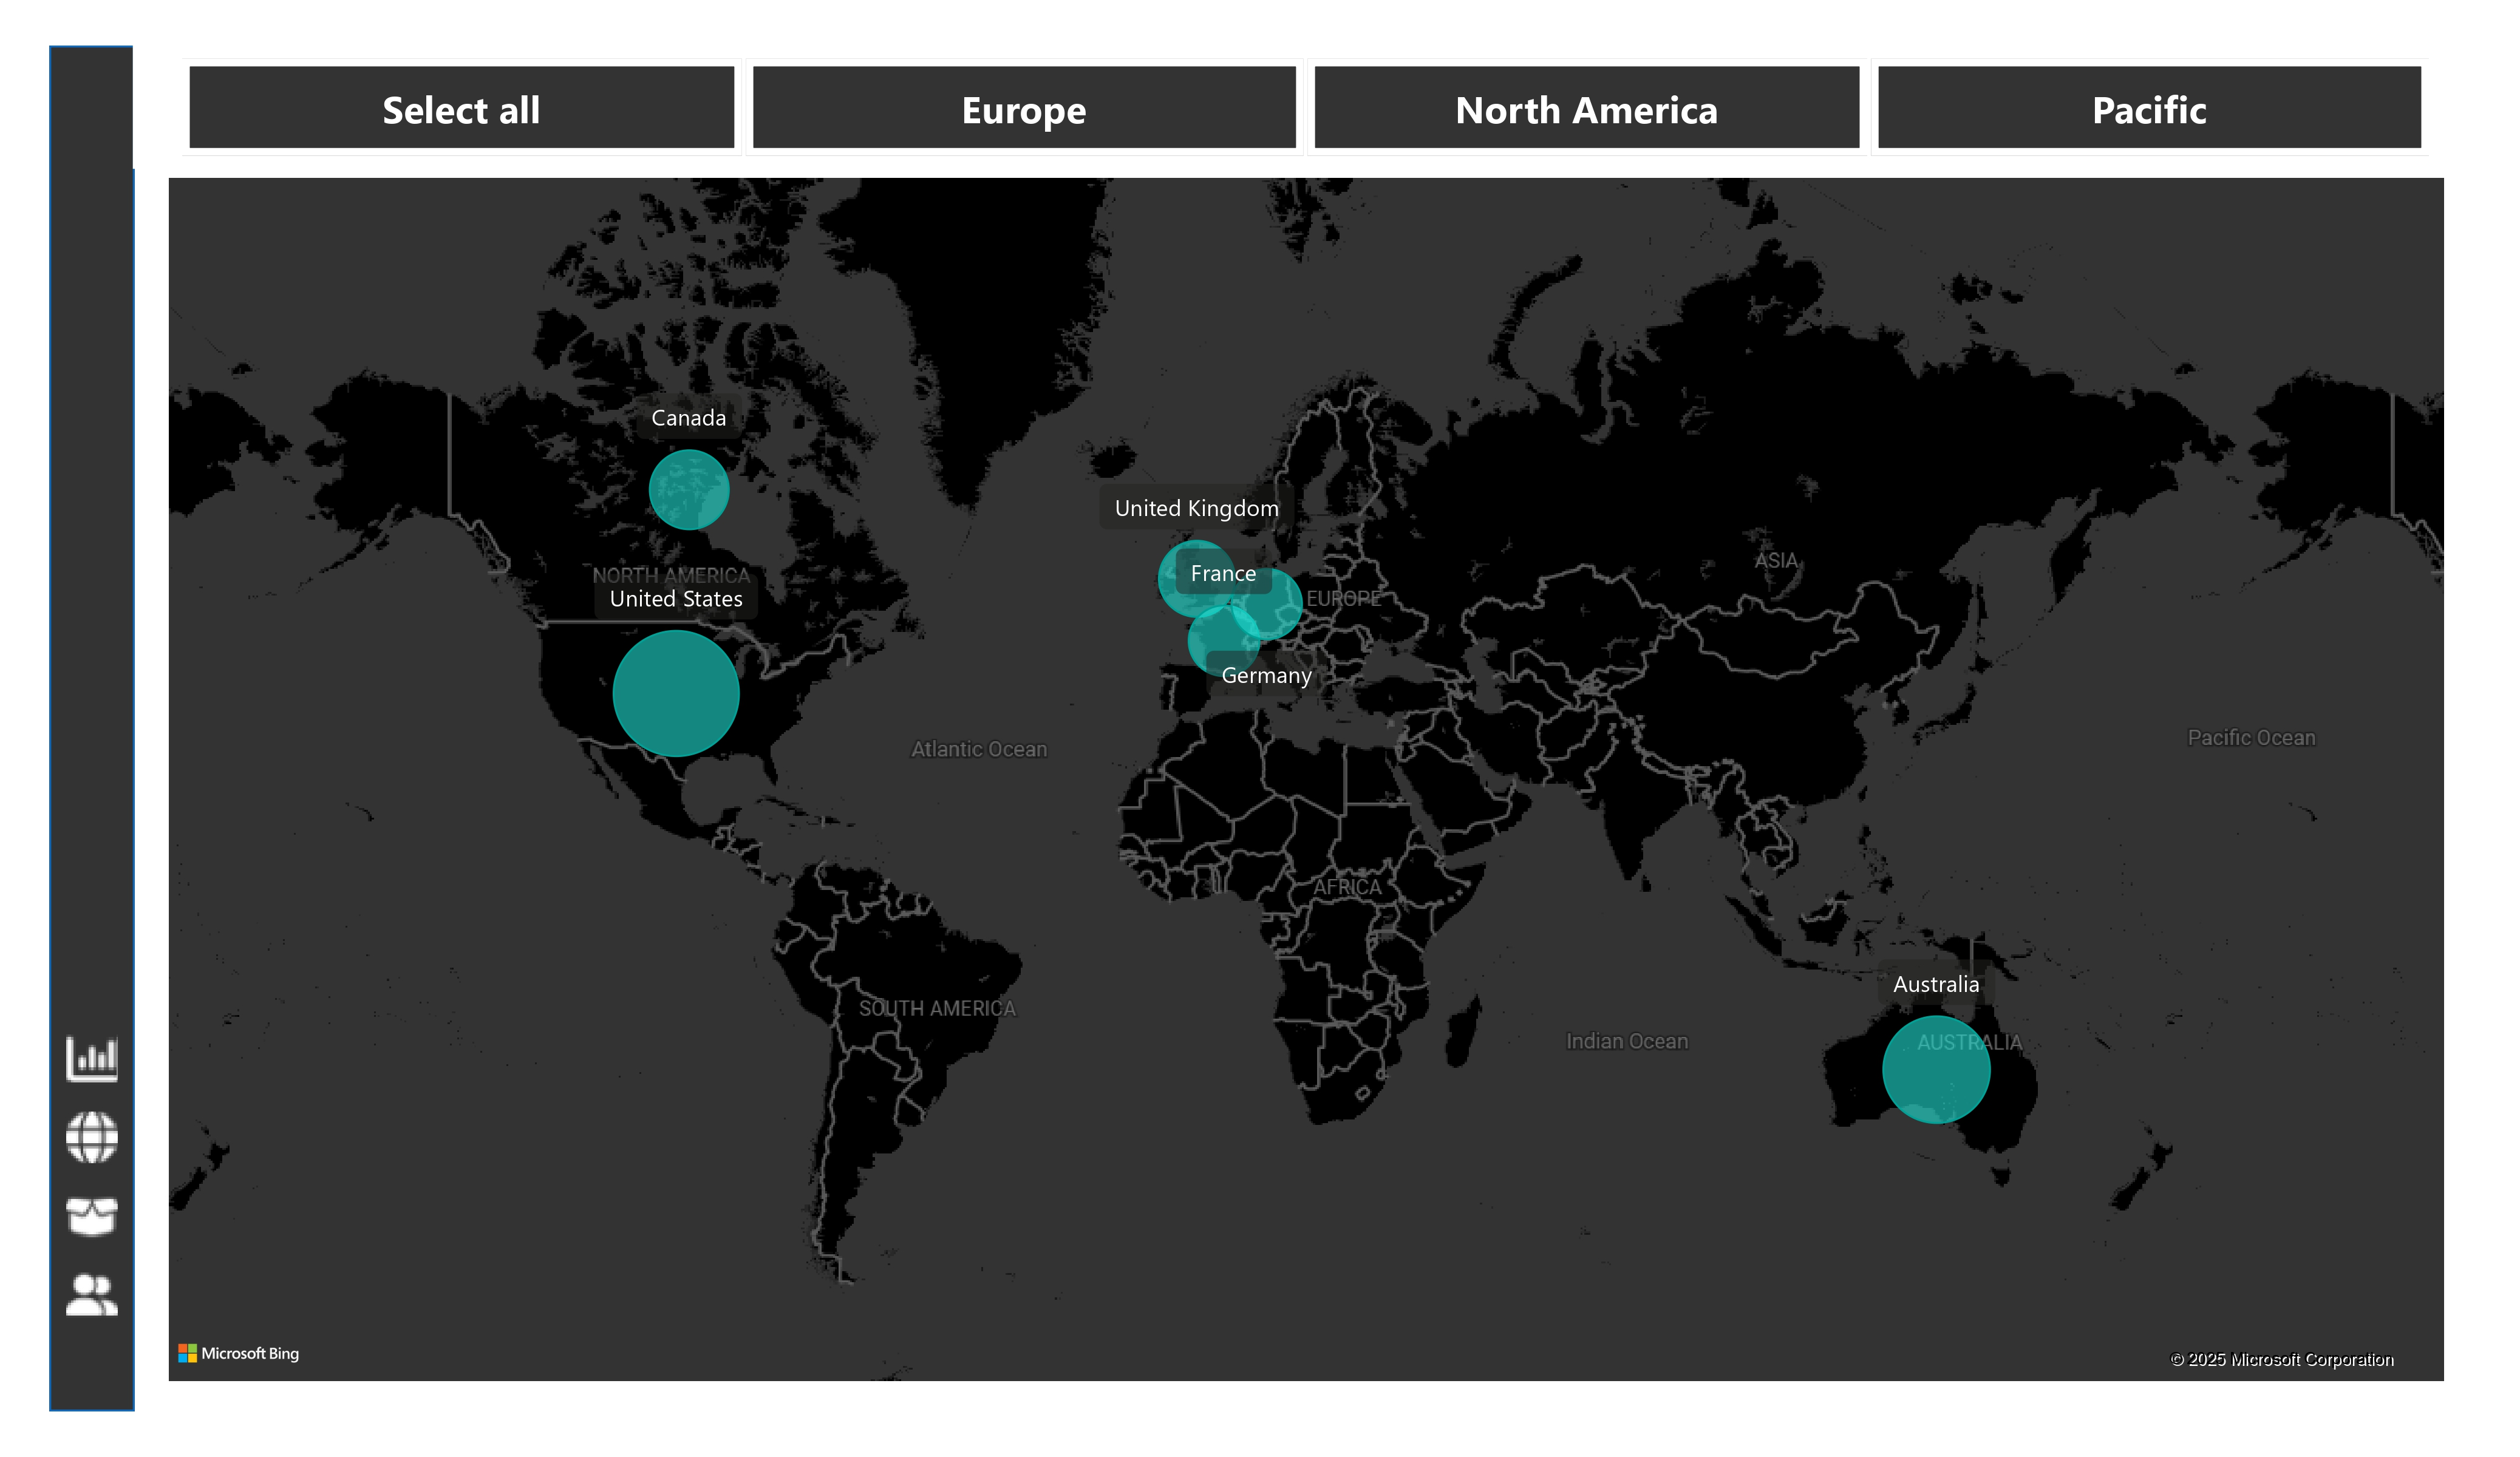

This screenshot's page, from the dashboard's own definition file:
{"tool":"powerbi","page":{"name":"Map","canvas":[1280,720],"ordinal":1},"visuals":[{"type":"actionButton","box":[7.5,516.8,44.7,34.8],"z":0,"group":"g1"},{"type":"shape","box":[2,0,45,720],"z":0},{"type":"actionButton","box":[7.5,558.2,44.7,34.8],"z":1000,"group":"g1"},{"type":"map","fields":{"Category":["Territory Lookup.Country"],"Size":["Measure_Table.Total Orders"]},"box":[59.6,64.6,1209.2,644.4],"z":1000},{"type":"slicer","fields":{"Values":["Territory Lookup.Continent"]},"box":[46.4,0,1234.1,64.6],"z":2000},{"type":"actionButton","box":[7.5,641,44.7,34.8],"z":2000,"group":"g1"},{"type":"actionButton","box":[7.5,599.6,44.7,34.8],"z":3000,"group":"g1"},{"type":"group","id":"g1","title":"Navigation Buttons","box":[7.5,516.8,44.7,159],"z":3000}]}

Visuals, with their boxes in screenshot pixels (x1, y1, x2, y2):
actionButton: [left=53, top=1020, right=137, bottom=1085]
shape: [left=43, top=52, right=128, bottom=1401]
actionButton: [left=53, top=1098, right=137, bottom=1163]
map - Territory Lookup.Country x Measure_Table.Total Orders: [left=151, top=174, right=2416, bottom=1380]
slicer - Territory Lookup.Continent: [left=126, top=52, right=2437, bottom=174]
actionButton: [left=53, top=1252, right=137, bottom=1318]
actionButton: [left=53, top=1175, right=137, bottom=1240]
"Navigation Buttons" group: [left=53, top=1020, right=137, bottom=1318]
